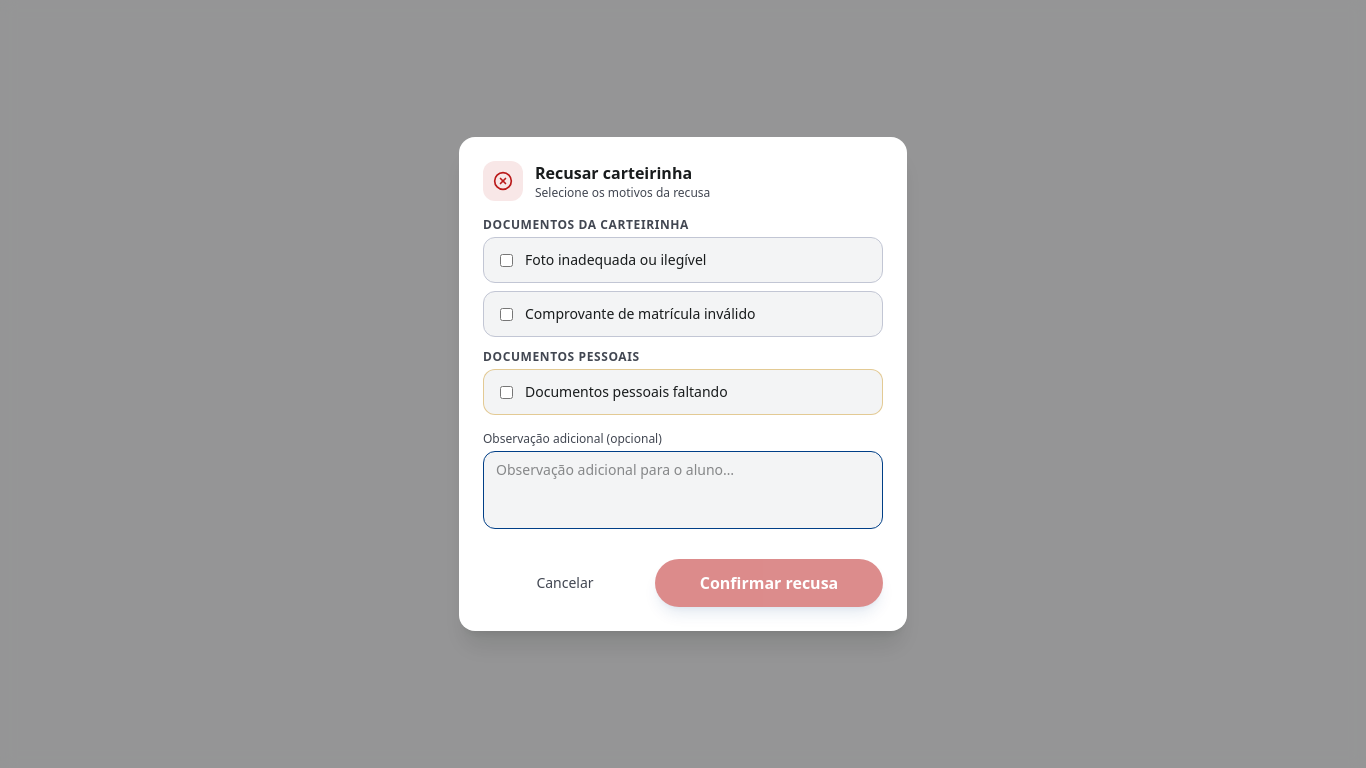
RejectModal › exibe erro quando API falha
Click the checkbox labelled "Foto inadequada ou ilegível".
click(506, 260)  # box [500, 254, 513, 266]
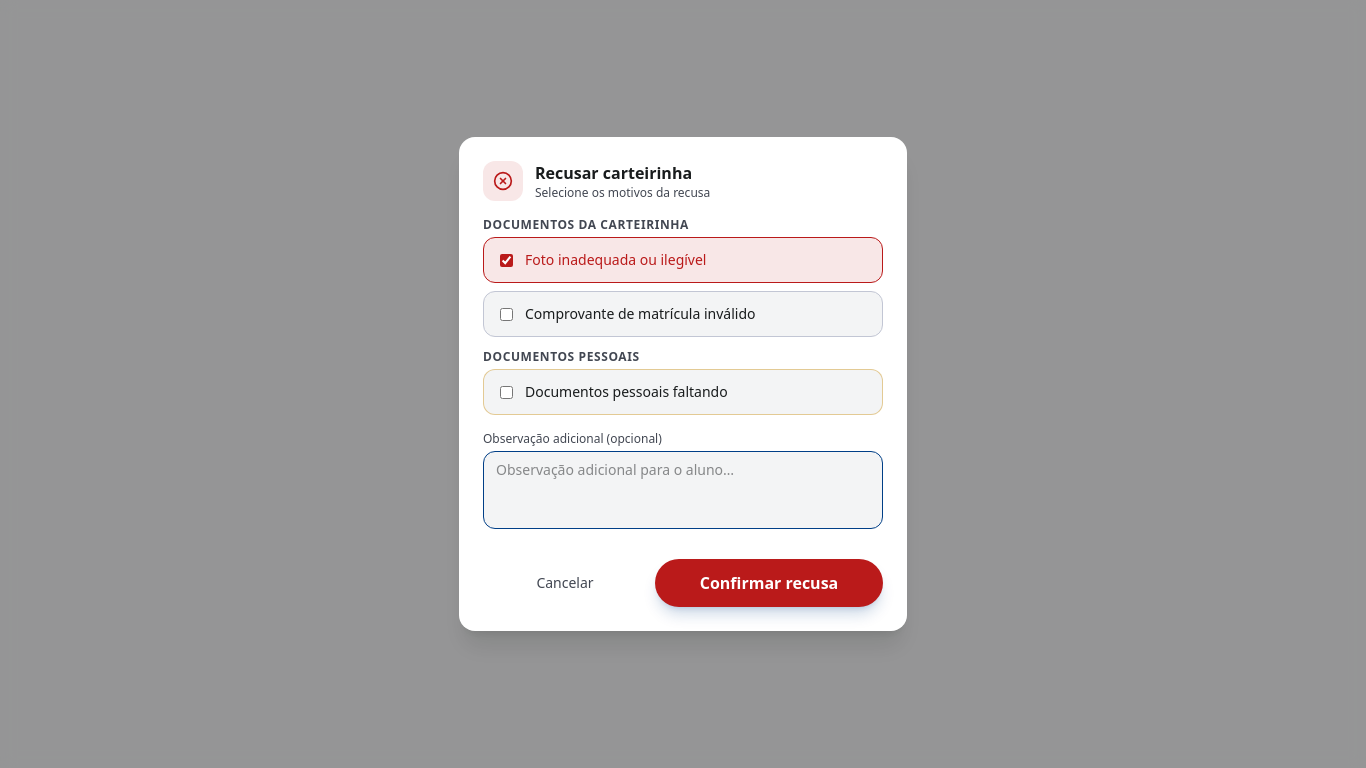
Click the button "Confirmar recusa".
click(769, 583)  # box [655, 559, 883, 607]
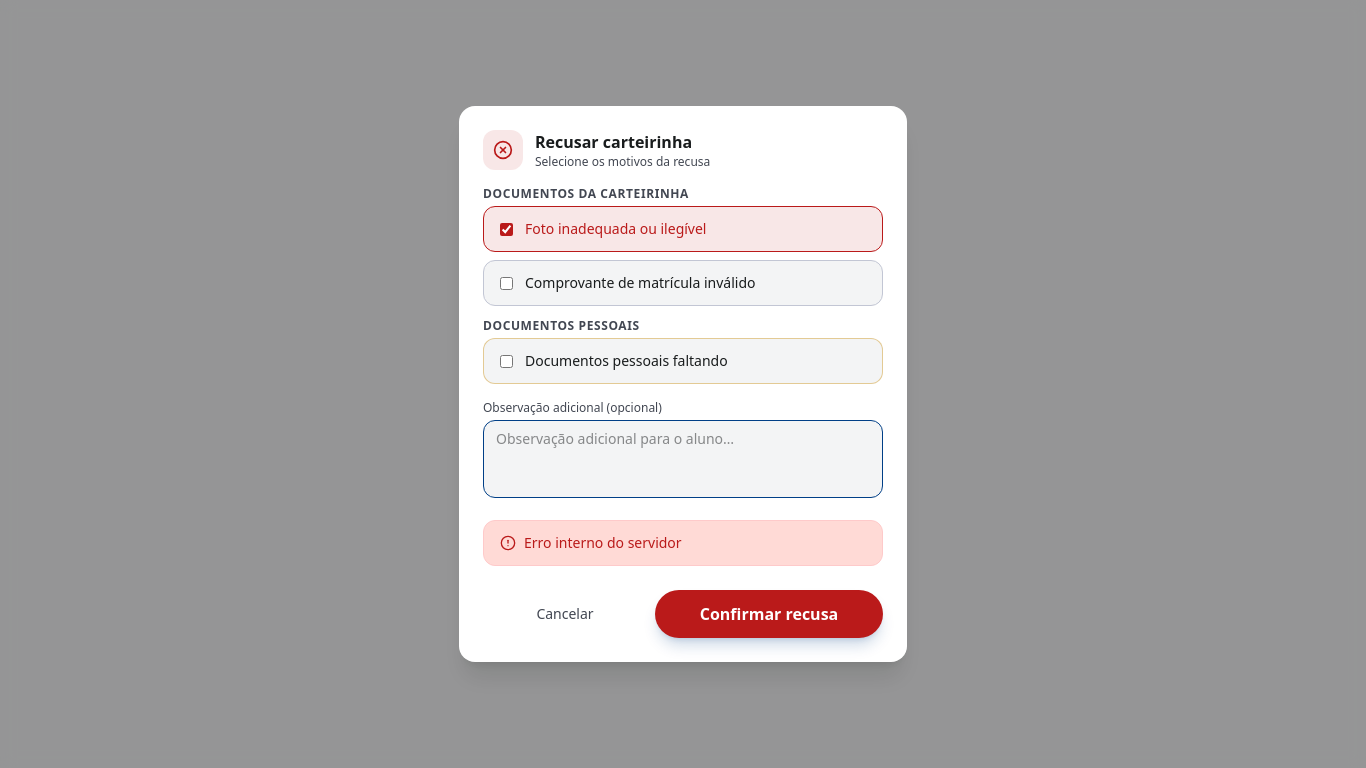
Check: the text "Erro interno do servidor" is shown, box [524, 533, 682, 552]
